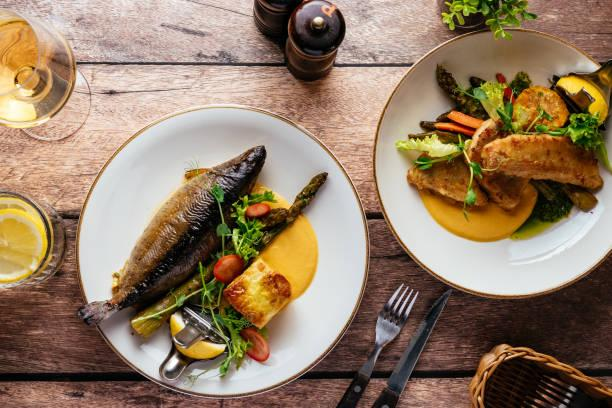Braised Crucian Carp: (77, 105, 364, 398), (373, 26, 611, 296)
